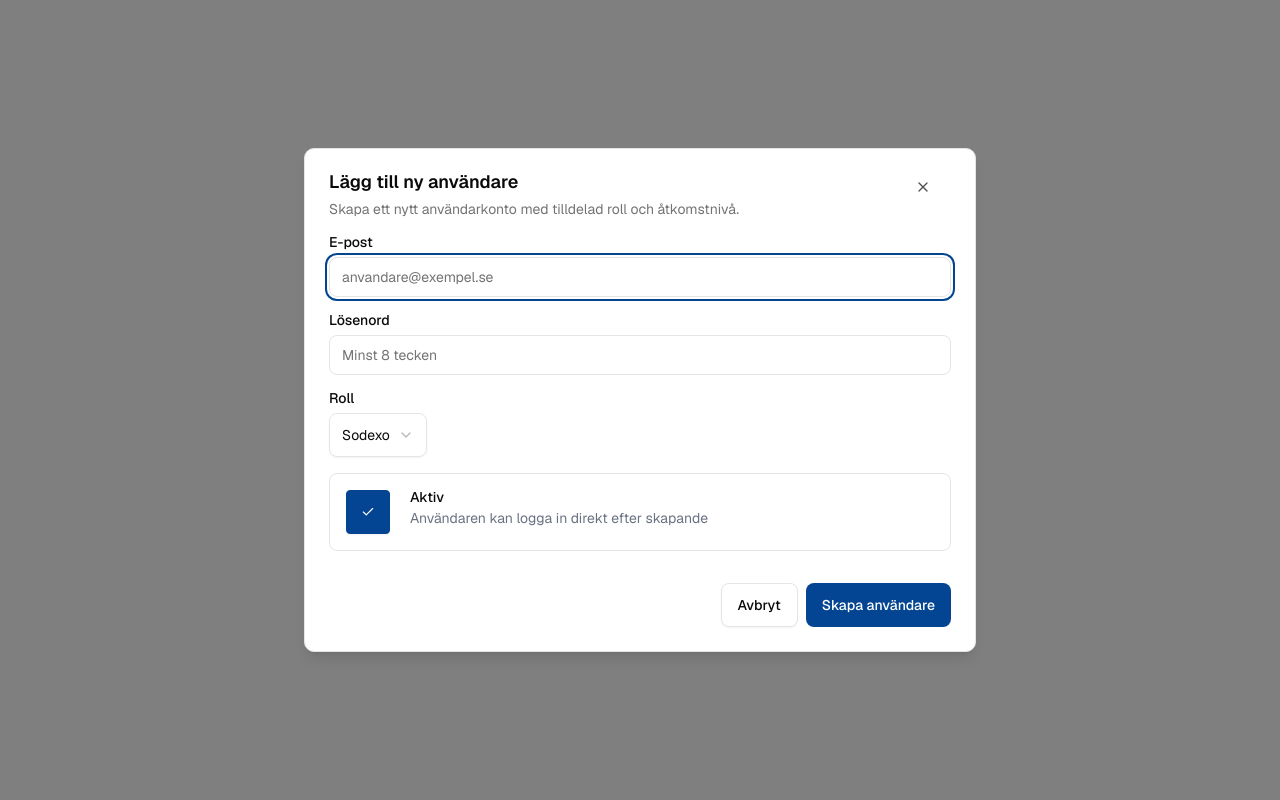
Test: AddUserModal › shows loading state during form submission
Fill and submit form
Type "newuser@test.com" into the field labelled "E-post" at (640,277), box [329,257,951,297]
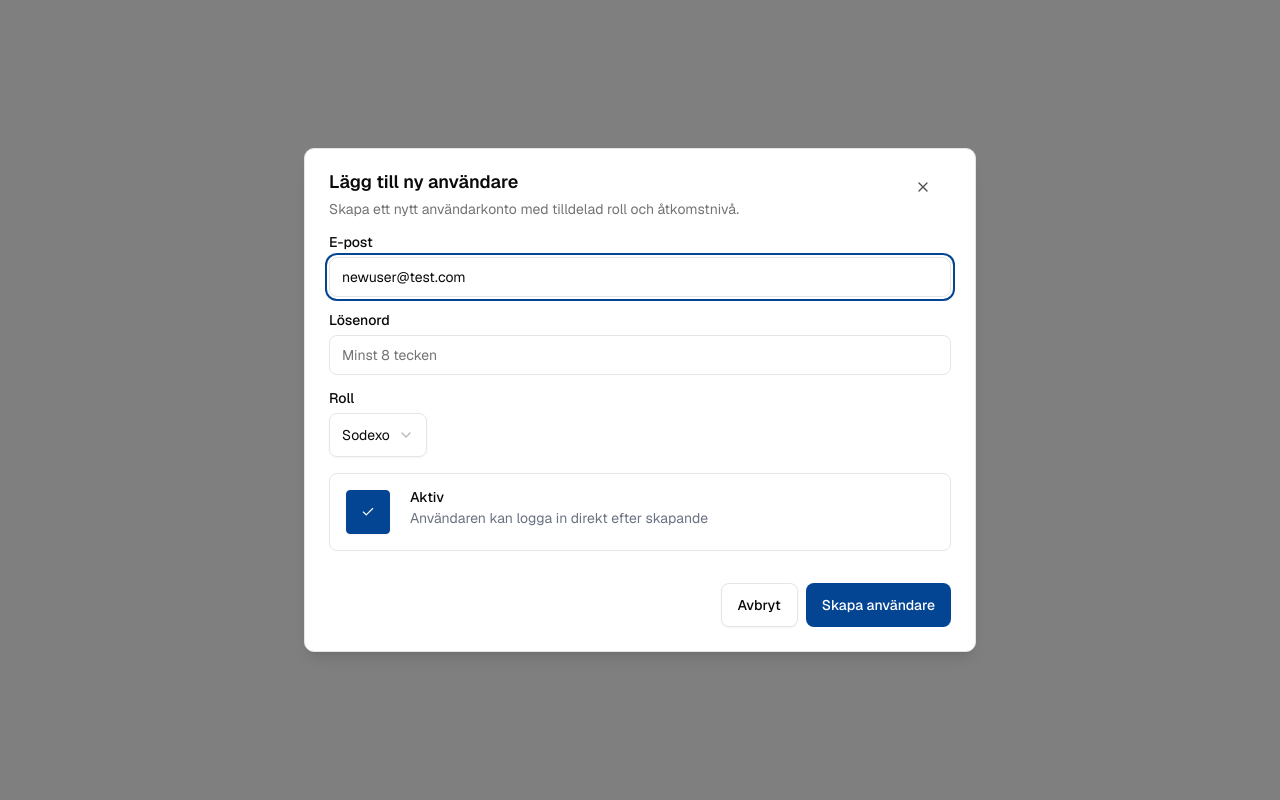
Type "testPass123" into the password field labelled "Lösenord" at (640,355), box [329,335,951,375]
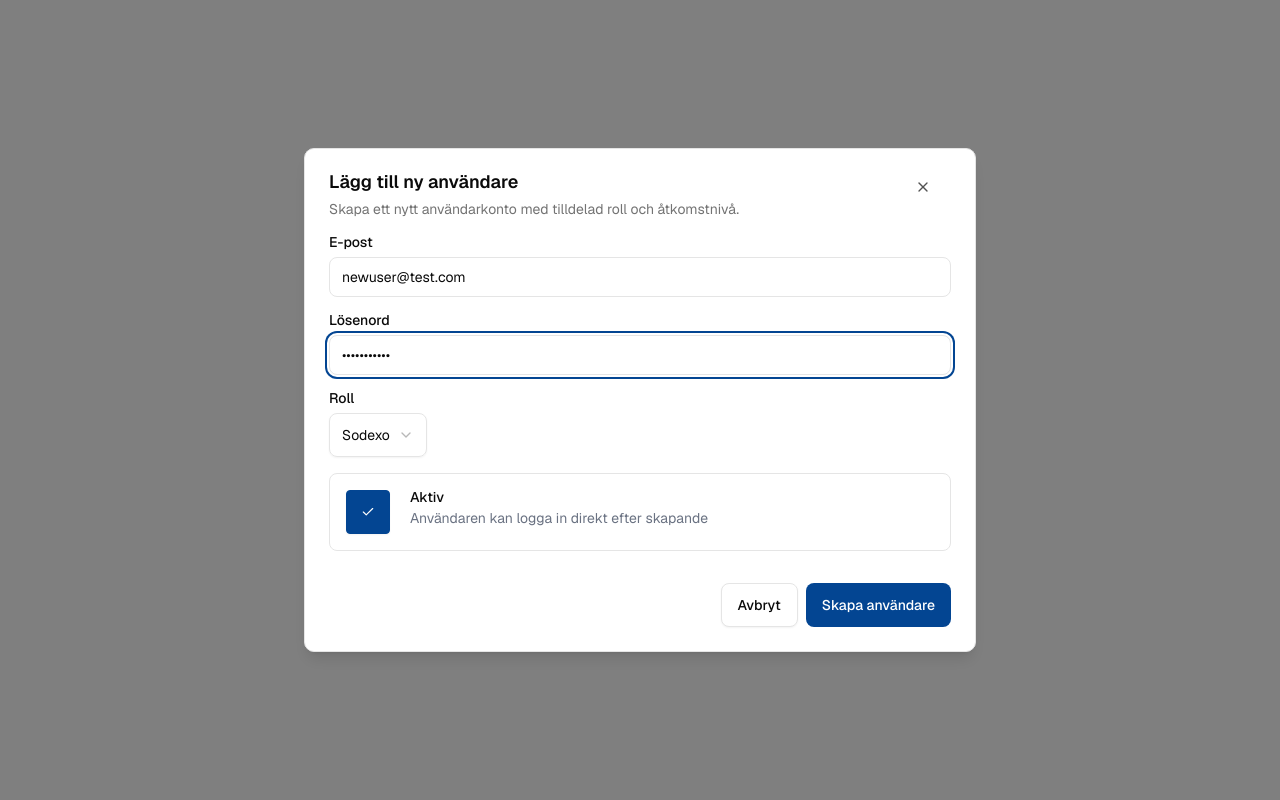
Click the button "Skapa användare" at (878,605), box [806,583,951,627]
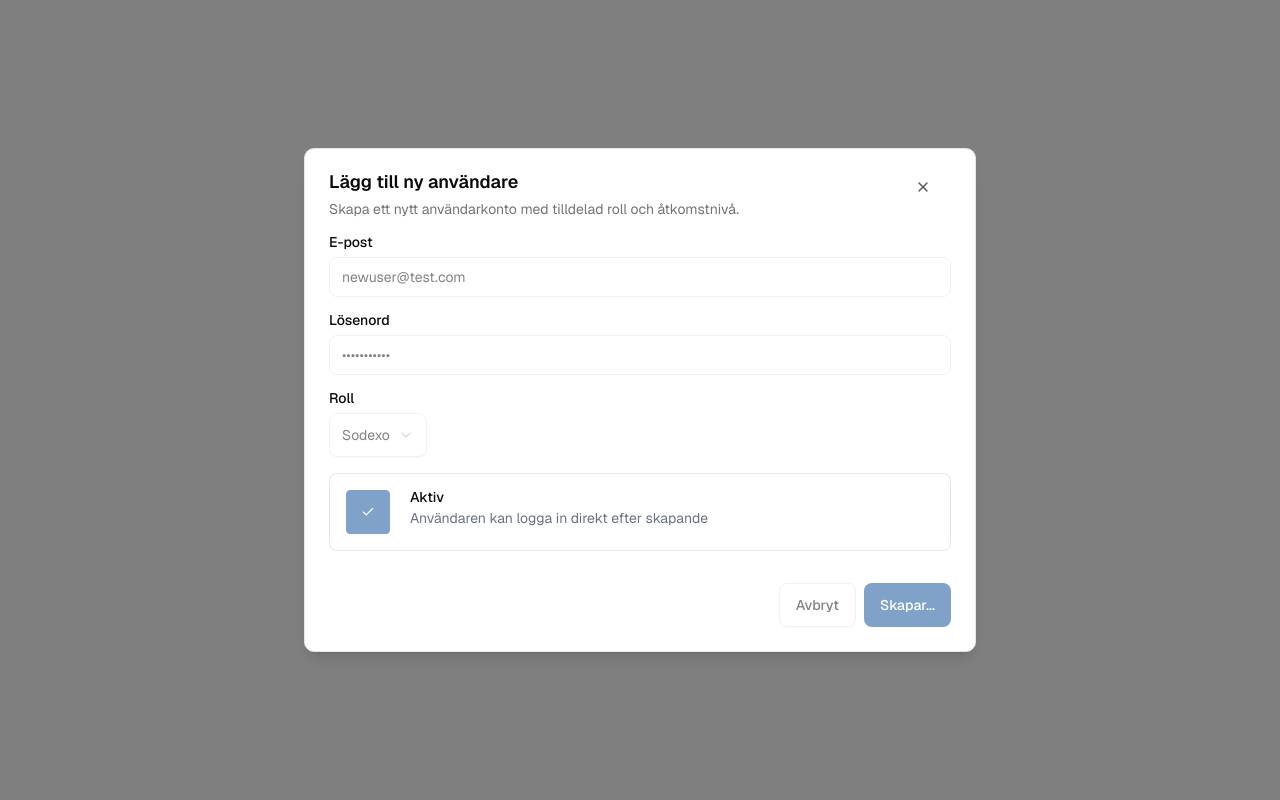
Check: the button "Skapar..." is disabled, box [864,583,951,627]
